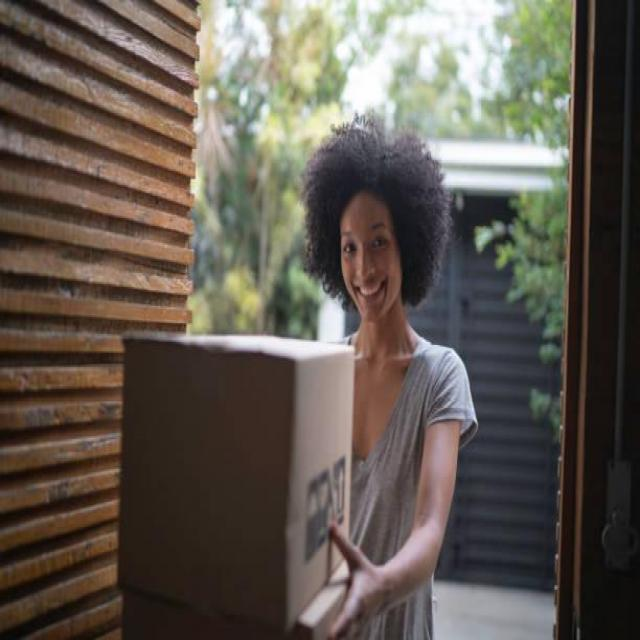box: (109, 322, 369, 634)
